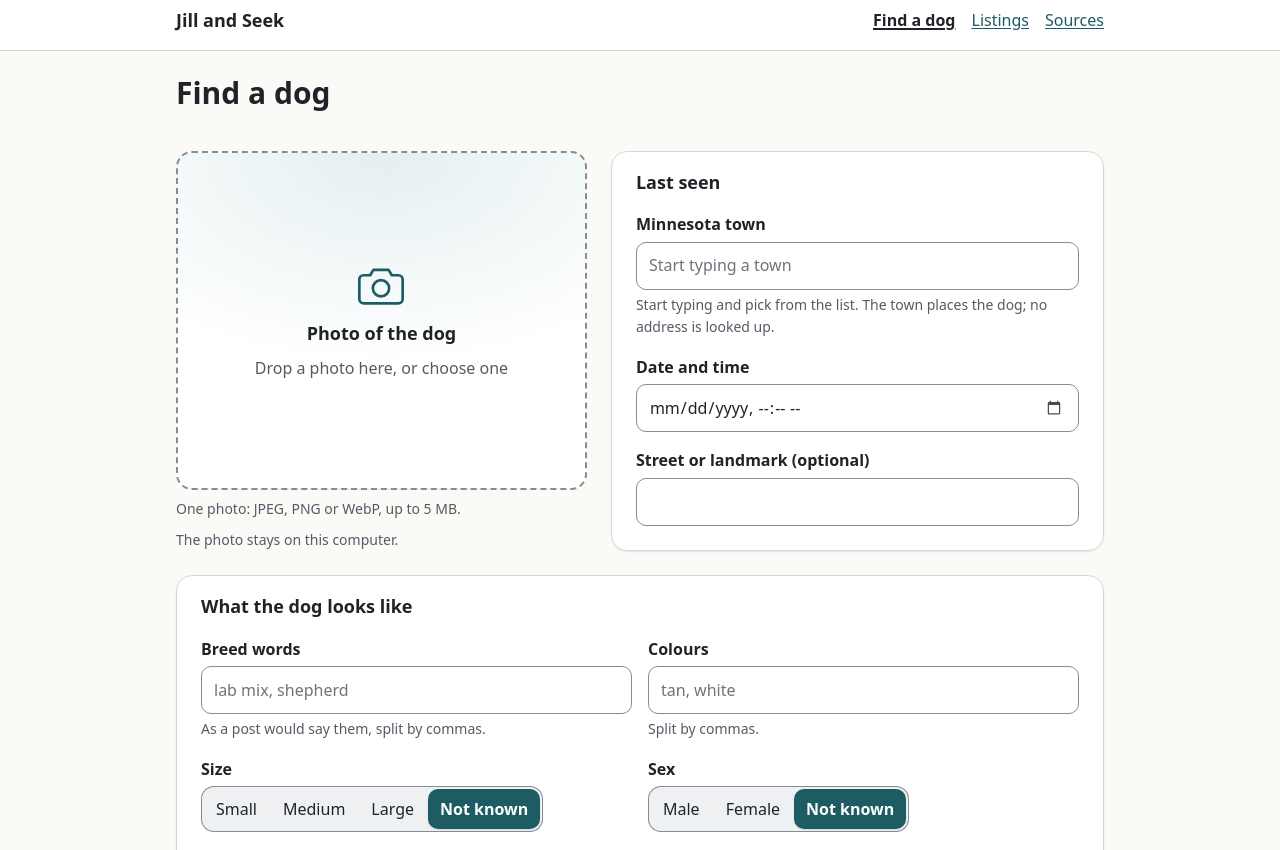
Find a dog › names what to fix, in a focused summary, before anything is sent
The width and height of the screenshot is (1280, 850).
Type "Quuxville" into the dropdown labelled "Minnesota town" at (857, 266), box [636,242,1079,290]
(page scrolled)
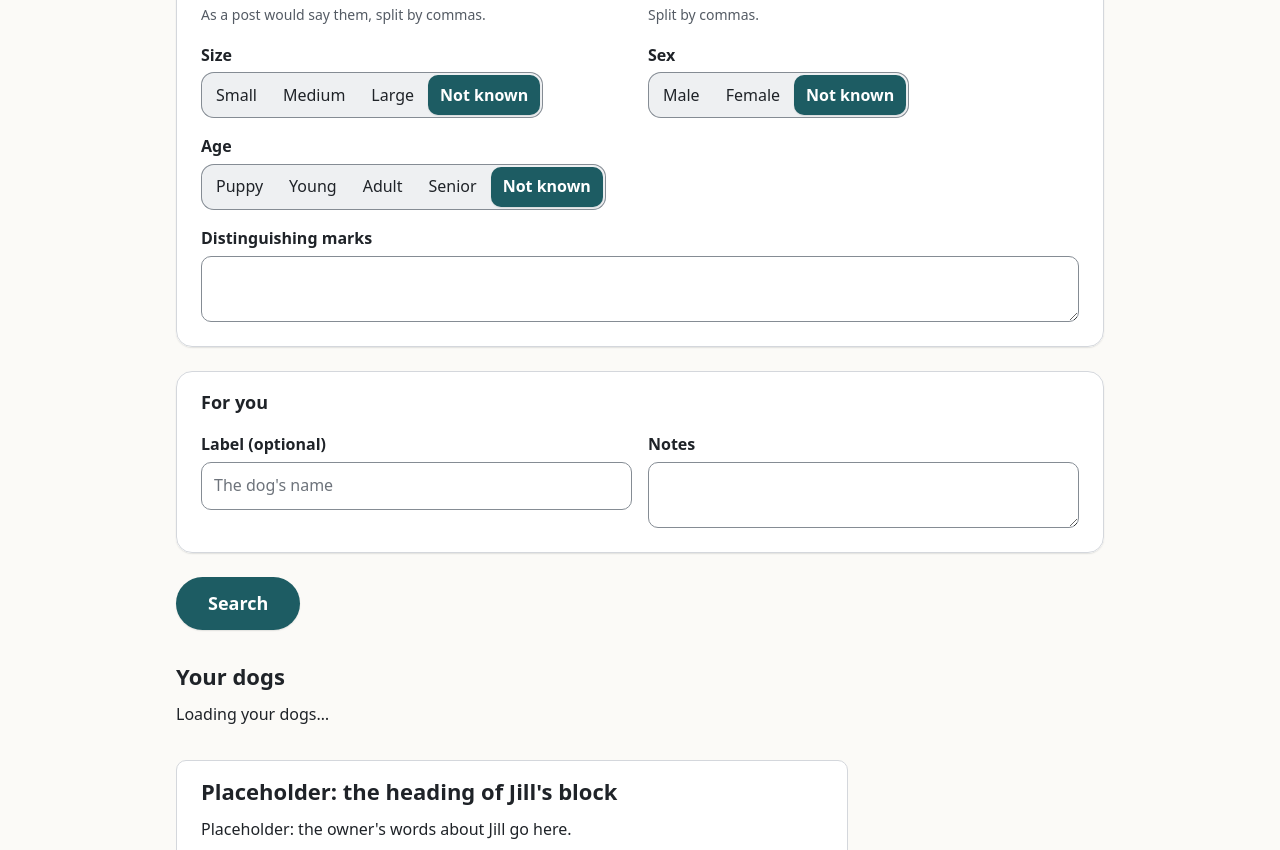
Click the button "Search" at (238, 603), box [176,577,300,630]
(page scrolled)
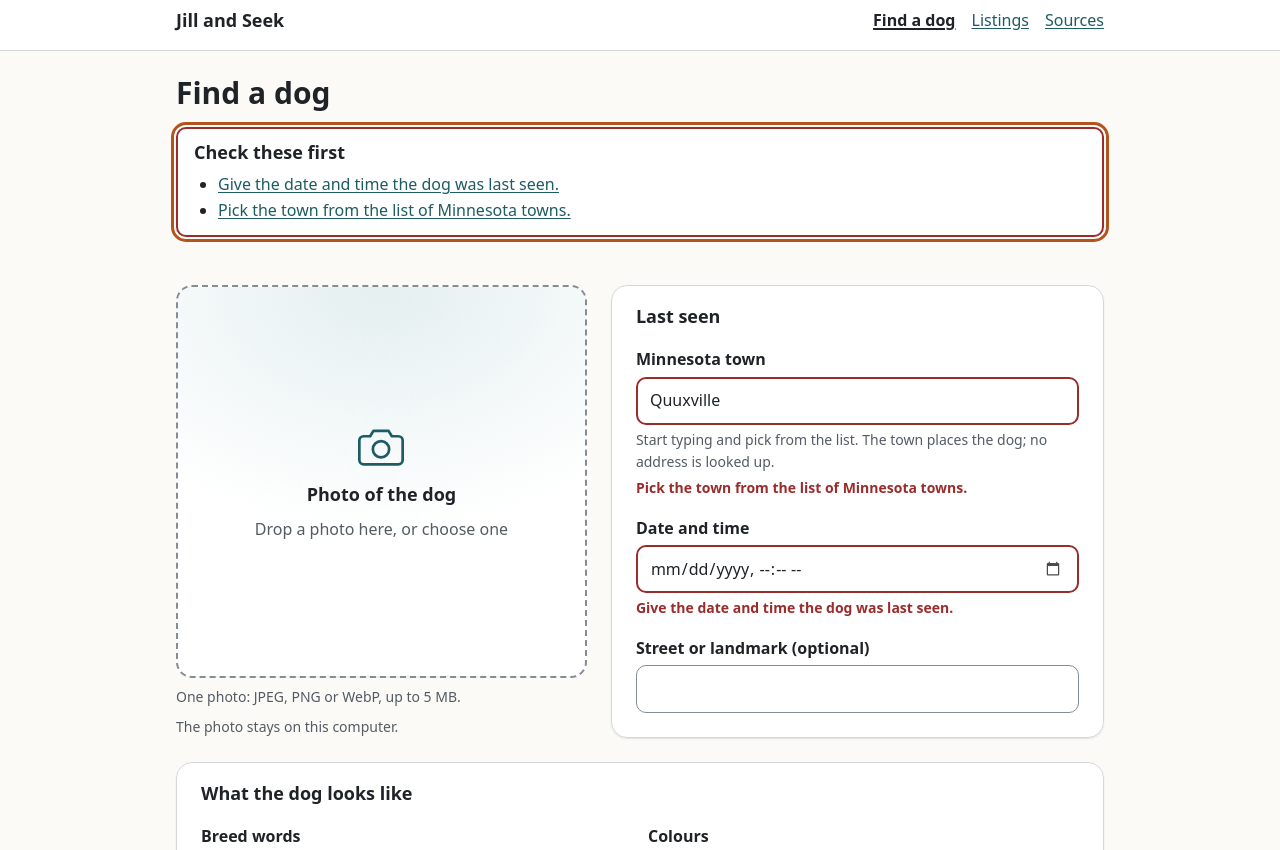
Expected: the message shows "Pick the town from the list", [218,199,571,221]
Expected: the message shows "Give the date and time", [218,173,559,195]
